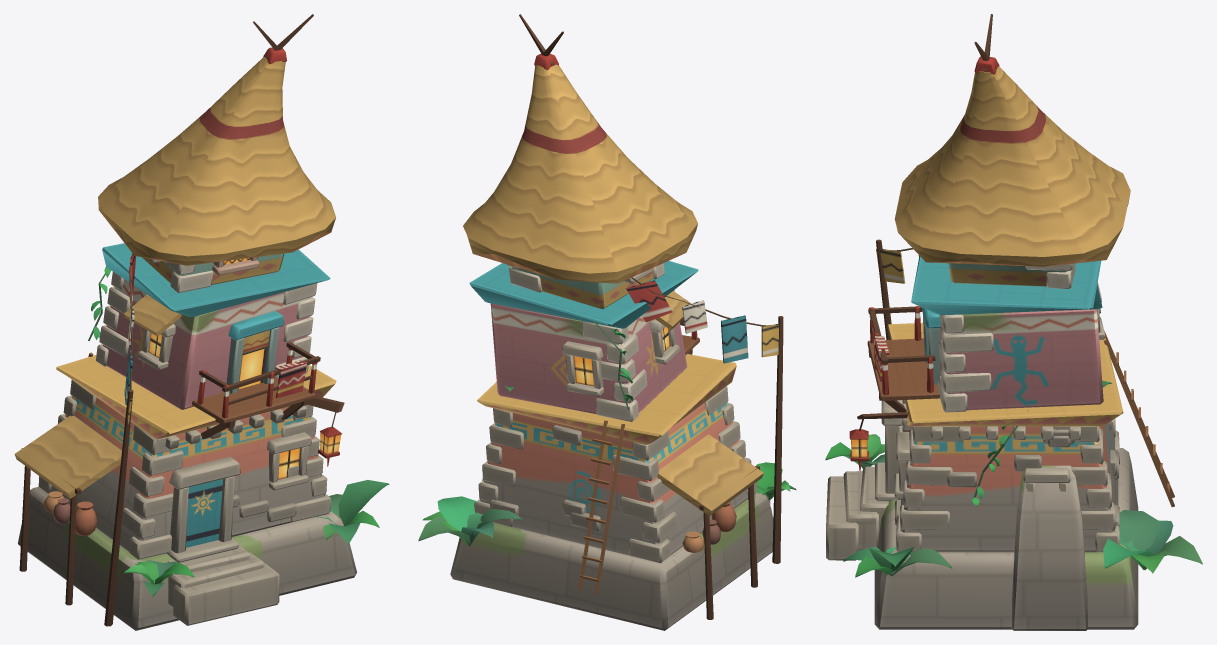
File: house_tower.glb
3 views of the same model, side by side, from view 1: azimuth 30°, elevation 25°; view 2: azimuth 150°, elevation 25°; view 3: azimuth 270°, elevation 25° (orthographic). The views are drawn at different scales.
Visible parts, largest first — view 1: house_tower; view 2: house_tower; view 3: house_tower.
Part boxes in pixels (x1,y1,x2,y2): house_tower: [14, 14, 389, 630]; house_tower: [418, 14, 796, 630]; house_tower: [825, 14, 1202, 630].
Bounding box in the file's own units: 10.19 × 17.93 × 10.41.
Materials: 2 (2 with a texture image).
